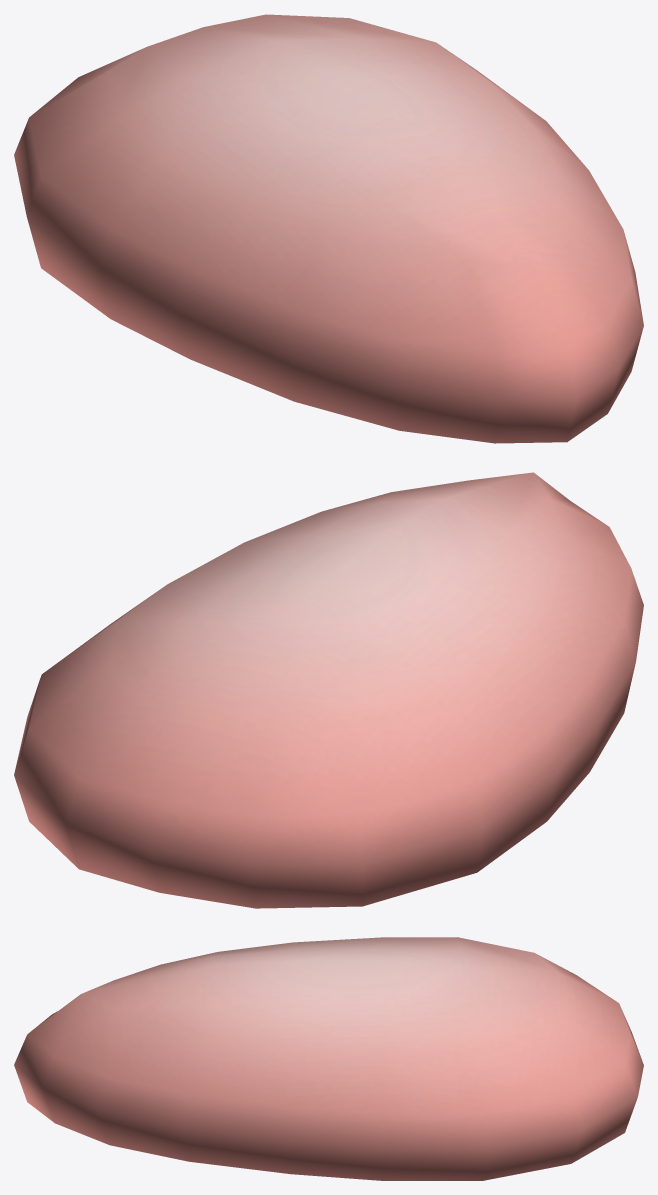
File: Chicken_Raw.fbx
3 views of the same model, one above another, from view 1: azimuth 30°, elevation 25°; view 2: azimuth 150°, elevation 25°; view 3: azimuth 270°, elevation 25° (orthographic). The views are drawn at different scales.
Visible parts, largest first — view 1: Chicken_Raw; view 2: Chicken_Raw; view 3: Chicken_Raw.
Part boxes in pixels (x1,y1,x2,y2): Chicken_Raw: (14, 14, 643, 443); Chicken_Raw: (14, 472, 643, 908); Chicken_Raw: (14, 937, 643, 1180).
Bounding box in the file's own units: 0.6567 × 0.2959 × 1.07.
1 material, 1 textured.
